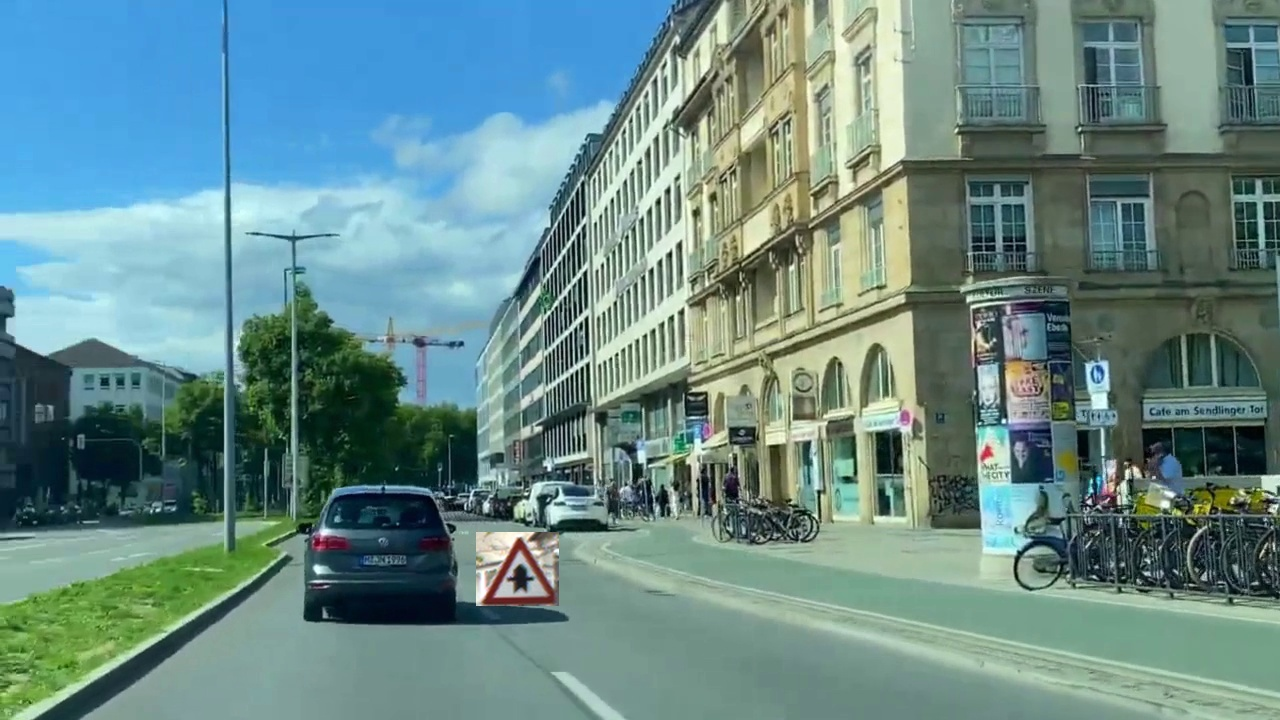Right-of-way: (476, 532, 559, 606)
